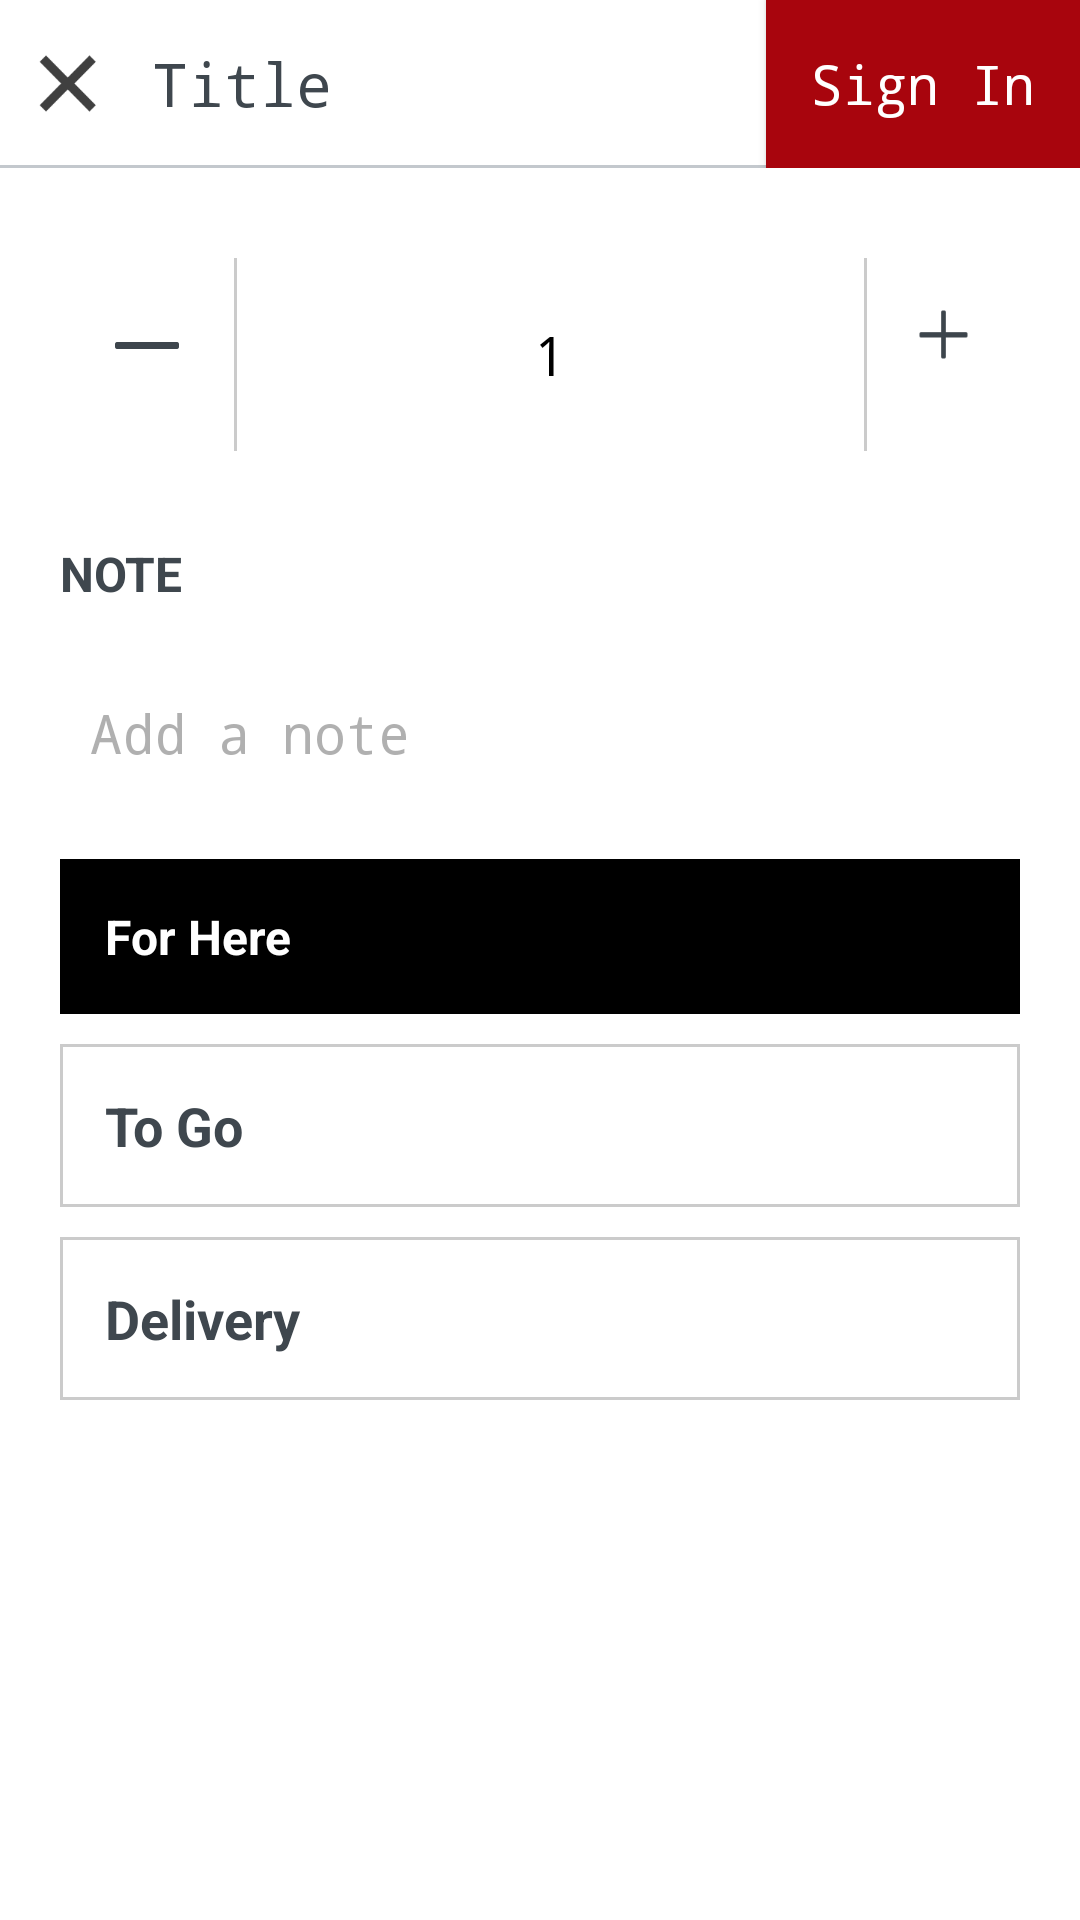

Screen size 1080px×1920px. Icon name, then its box in pixels as (left=x1, top=y1, right=x2, bottom=y2):
close: (left=40, top=55, right=96, bottom=112)
plus: (left=919, top=310, right=968, bottom=359)
